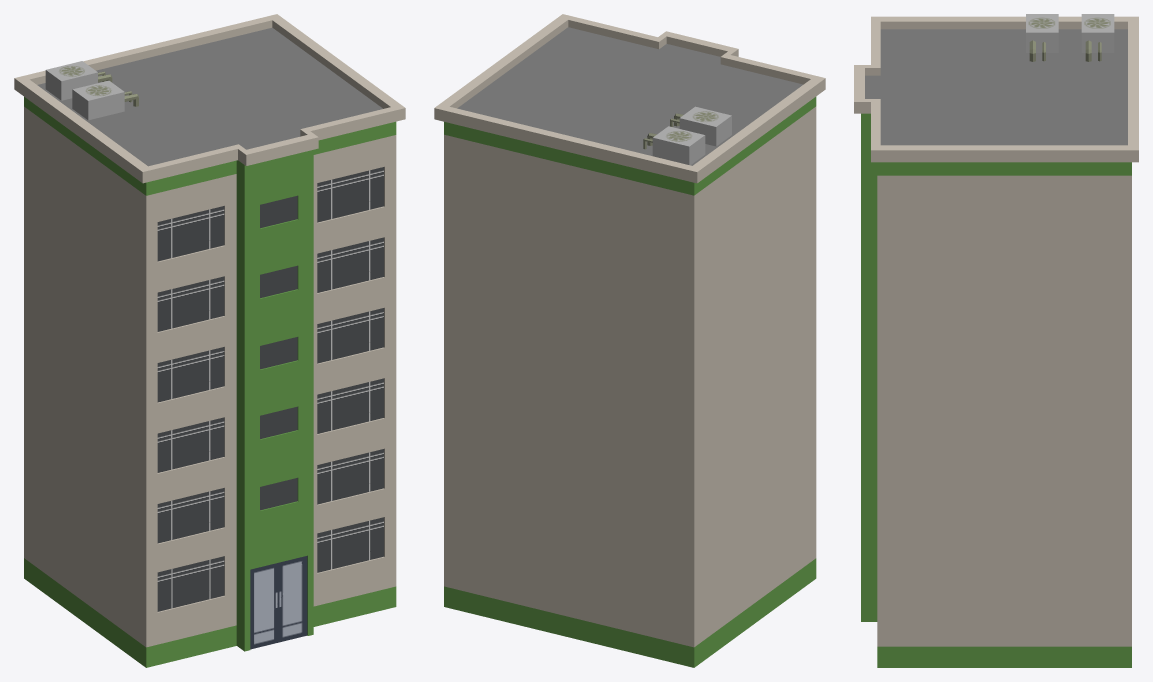
File: building.glb
3 renders of one model, left to right at view 1: azimuth 30°, elevation 25°; view 2: azimuth 150°, elevation 25°; view 3: azimuth 270°, elevation 25°, orthographic. The views are drawn at different scales.
Visible parts, largest first — view 1: Building Sky_big_color01.001, Props_Roof prop air.025, Props_Roof prop air.024; view 2: Building Sky_big_color01.001, Props_Roof prop air.024, Props_Roof prop air.025; view 3: Building Sky_big_color01.001, Props_Roof prop air.024, Props_Roof prop air.025.
Boxes of the visible parts, x1,y1,x2,y2 form: Building Sky_big_color01.001: (14, 14, 405, 667); Props_Roof prop air.025: (72, 80, 138, 120); Props_Roof prop air.024: (45, 61, 112, 100); Building Sky_big_color01.001: (434, 14, 825, 667); Props_Roof prop air.024: (643, 126, 705, 165); Props_Roof prop air.025: (670, 106, 731, 146); Building Sky_big_color01.001: (854, 16, 1138, 667); Props_Roof prop air.024: (1081, 14, 1114, 61); Props_Roof prop air.025: (1026, 14, 1058, 61).
Size of the model in its own units: 4.94 by 9.19 by 4.45.
Materials: 2 (2 with a texture image).
